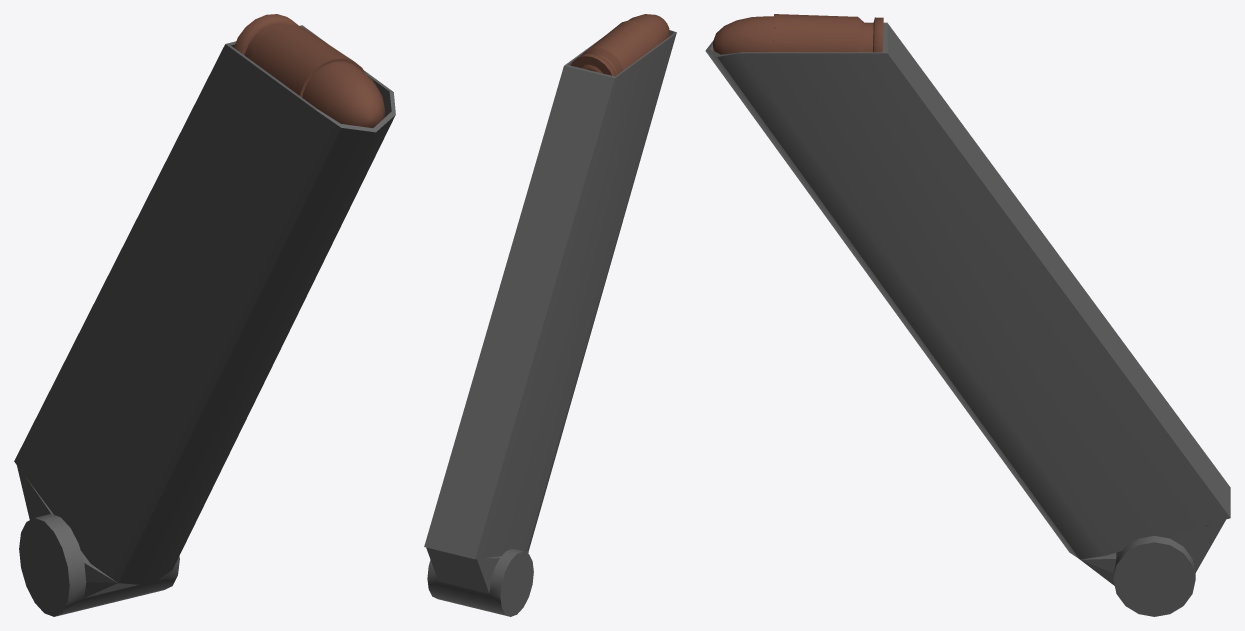
The model's file is Luger_Mag.fbx.
3 renders of one model, left to right at view 1: azimuth 30°, elevation 25°; view 2: azimuth 150°, elevation 25°; view 3: azimuth 270°, elevation 25°, orthographic. The views are drawn at different scales.
Visible parts, largest first — view 1: pCylinder12, pCylinder10; view 2: pCylinder12, pCylinder10; view 3: pCylinder12, pCylinder10.
Part boxes in pixels (box(x1,y1,x2,y2)): pCylinder12: box(14, 25, 395, 616); pCylinder10: box(234, 14, 385, 128); pCylinder12: box(424, 30, 676, 616); pCylinder10: box(570, 14, 669, 76); pCylinder12: box(705, 22, 1230, 616); pCylinder10: box(713, 14, 883, 54).
Size of the model in its own units: 1.88 by 11.62 by 9.57.
